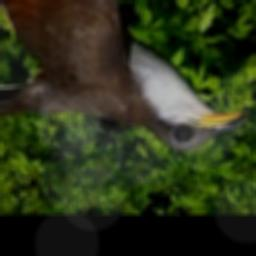Cuckoo: (0, 0, 248, 150)
